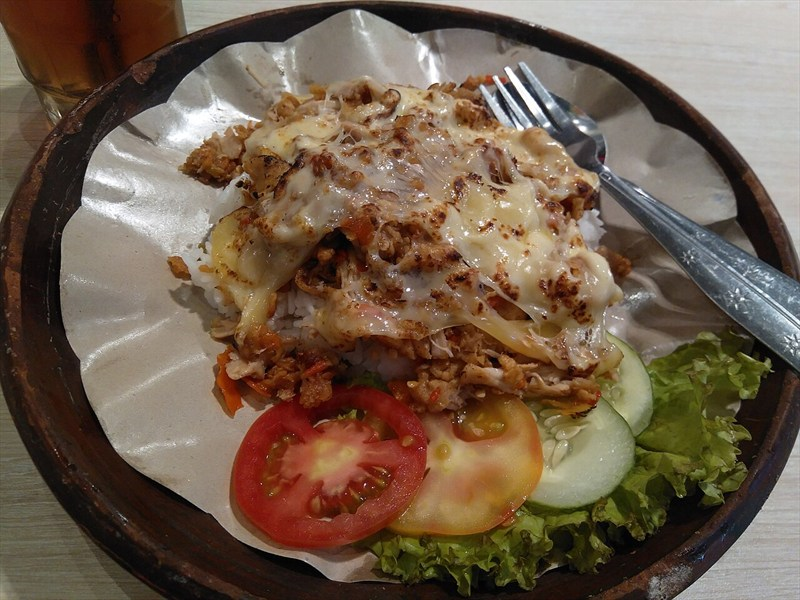Ayam Goreng: (82, 34, 663, 481)
